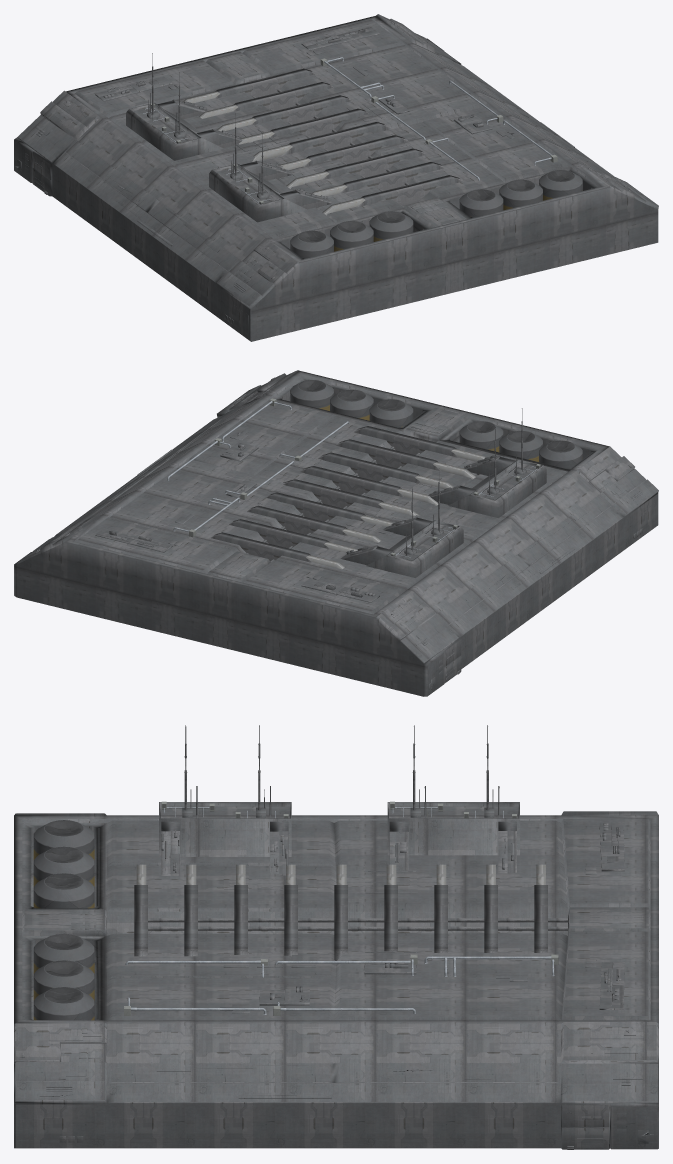
The model's file is CityBlock001.fbx.
3 views of the same model, one above another, from view 1: azimuth 30°, elevation 25°; view 2: azimuth 150°, elevation 25°; view 3: azimuth 270°, elevation 25° (orthographic). The views are drawn at different scales.
Visible parts, largest first — view 1: SMCGBlock41_10222.Shape; view 2: SMCGBlock41_10222.Shape; view 3: SMCGBlock41_10222.Shape.
Part boxes in pixels (x1,y1,x2,y2): SMCGBlock41_10222.Shape: (14, 14, 658, 341); SMCGBlock41_10222.Shape: (14, 370, 658, 696); SMCGBlock41_10222.Shape: (14, 725, 658, 1149).
Bounding box in the file's own units: 736 × 246 × 721.
